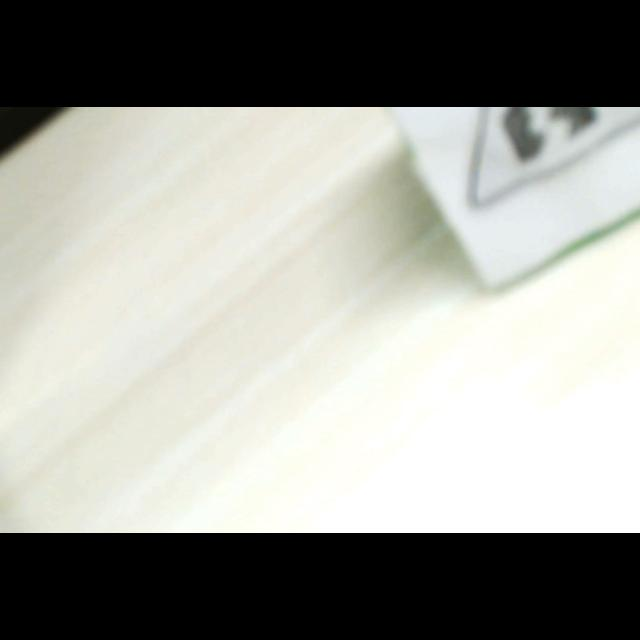Earthquake: (405, 107, 640, 284)
